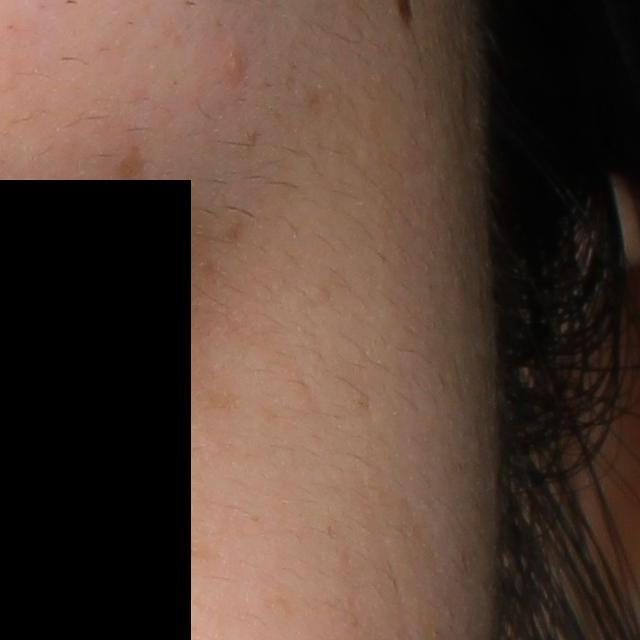melasma: (114, 143, 147, 210), (225, 213, 243, 245)
papule: (219, 46, 251, 88)
